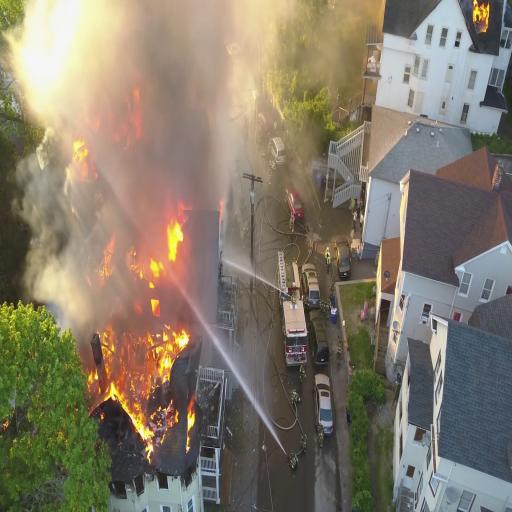fire: (148, 324, 190, 386), (113, 382, 153, 439), (161, 210, 186, 274), (184, 412, 196, 452)
smoke: (132, 11, 237, 183)
